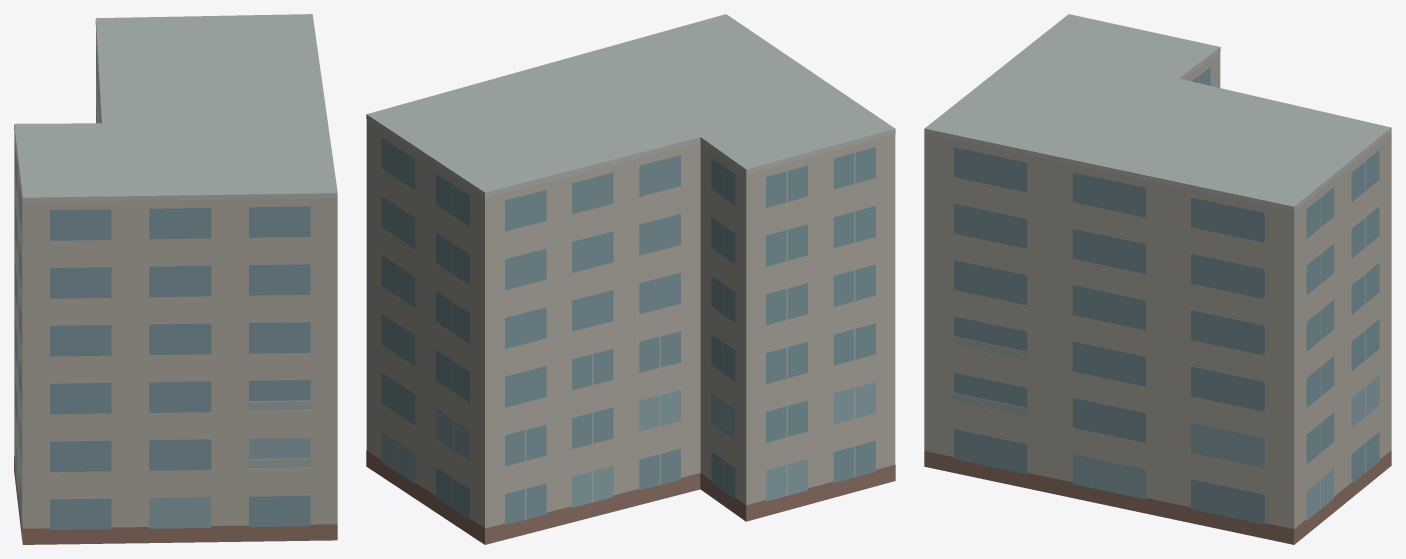
Rendered from survey-upis-33028736.glb.
3 views of the same model, side by side, from view 1: azimuth 30°, elevation 25°; view 2: azimuth 150°, elevation 25°; view 3: azimuth 270°, elevation 25° (orthographic). The views are drawn at different scales.
Parts seen in each view (by area): view 1: survey-upis-33028736.tmp; view 2: survey-upis-33028736.tmp; view 3: survey-upis-33028736.tmp.
Part boxes in pixels (x1,y1,x2,y2): survey-upis-33028736.tmp: (14, 14, 337, 544); survey-upis-33028736.tmp: (366, 14, 895, 544); survey-upis-33028736.tmp: (924, 14, 1391, 544).
Bounding box in the file's own units: 20.31 × 16.6 × 20.79.
